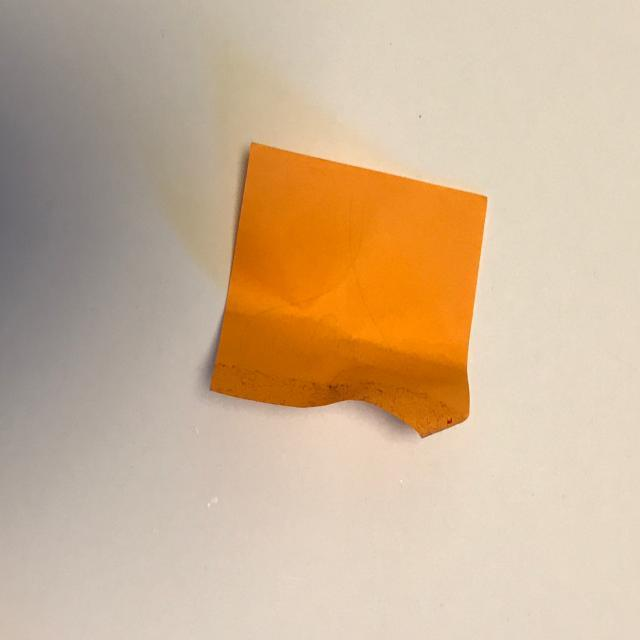paper: (209, 140, 487, 440)
